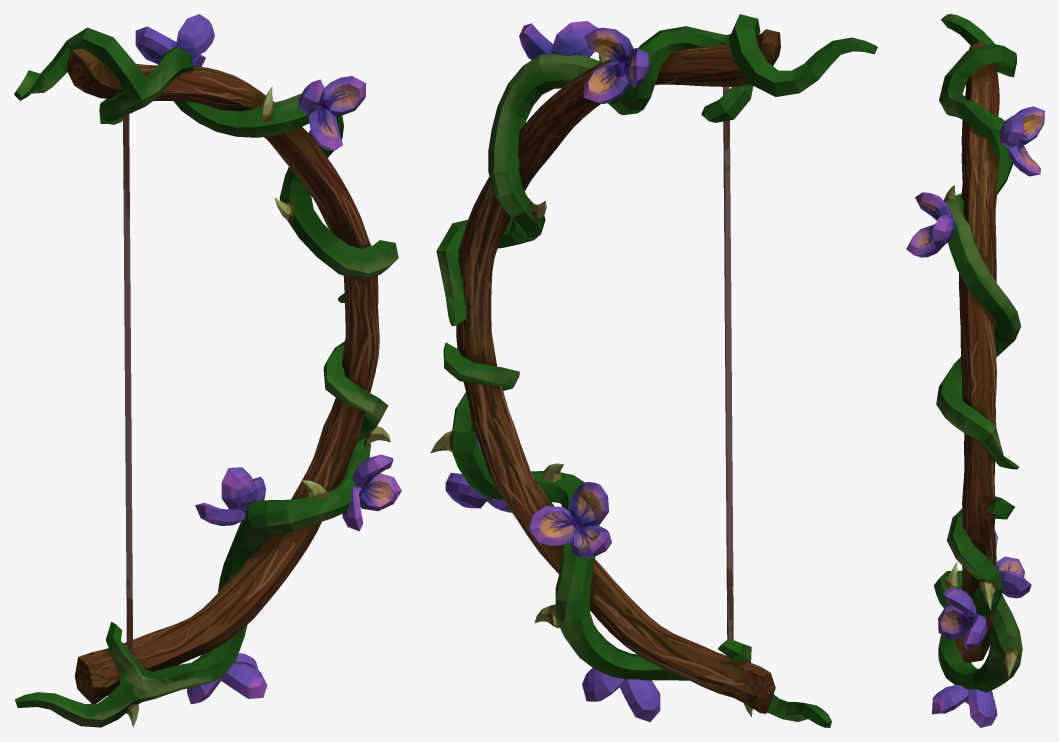
Rendered from bow-druid.glb.
3 renders of one model, left to right at view 1: azimuth 30°, elevation 25°; view 2: azimuth 150°, elevation 25°; view 3: azimuth 270°, elevation 25°, orthographic. The views are drawn at different scales.
Parts seen in each view (by area): view 1: bow1_1, bow2, pCylinder6, PM3D_Cube3D4_5, PM3D_Cube3D4_3, PM3D_Cube3D4_6, PM3D_Cube3D4_4, PM3D_Cube3D4_2; view 2: bow1_1, bow2, PM3D_Cube3D4_4, pCylinder6, PM3D_Cube3D4_6, PM3D_Cube3D4_2, PM3D_Cube3D4_5, PM3D_Cube3D4_3; view 3: bow1_1, bow2, PM3D_Cube3D4_3, PM3D_Cube3D4_6, PM3D_Cube3D4_5, PM3D_Cube3D4_2, PM3D_Cube3D4_4, pCone1, pCone3.
Part boxes in pixels (x1,y1,x2,y2): bow1_1: [14, 27, 398, 727]; bow2: [66, 48, 379, 703]; pCylinder6: [123, 114, 133, 654]; PM3D_Cube3D4_5: [298, 76, 366, 150]; PM3D_Cube3D4_3: [342, 454, 401, 531]; PM3D_Cube3D4_6: [135, 14, 214, 66]; PM3D_Cube3D4_4: [195, 467, 265, 525]; PM3D_Cube3D4_2: [187, 653, 267, 703]; bow1_1: [436, 14, 877, 727]; bow2: [456, 29, 780, 713]; PM3D_Cube3D4_4: [529, 482, 611, 557]; pCylinder6: [723, 87, 733, 657]; PM3D_Cube3D4_6: [583, 27, 650, 103]; PM3D_Cube3D4_2: [582, 668, 660, 722]; PM3D_Cube3D4_5: [519, 21, 597, 59]; PM3D_Cube3D4_3: [445, 437, 511, 512]; bow1_1: [933, 14, 1022, 692]; bow2: [955, 40, 999, 663]; PM3D_Cube3D4_3: [938, 587, 986, 651]; PM3D_Cube3D4_6: [999, 106, 1044, 176]; PM3D_Cube3D4_5: [906, 192, 955, 257]; PM3D_Cube3D4_2: [932, 684, 997, 727]; PM3D_Cube3D4_4: [994, 530, 1031, 598]; pCone1: [978, 579, 996, 610]; pCone3: [1003, 646, 1018, 678].
Bounding box in the file's own units: 0.5761 × 0.9514 × 0.1919.
Materials: 1 (1 with a texture image).
